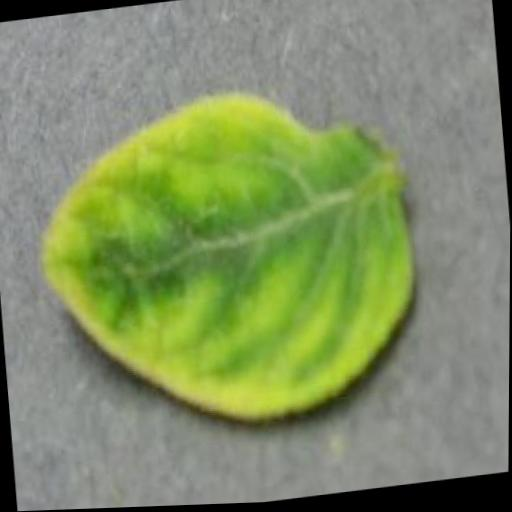Yellow Leaf Curl Virus: (23, 73, 426, 441)
